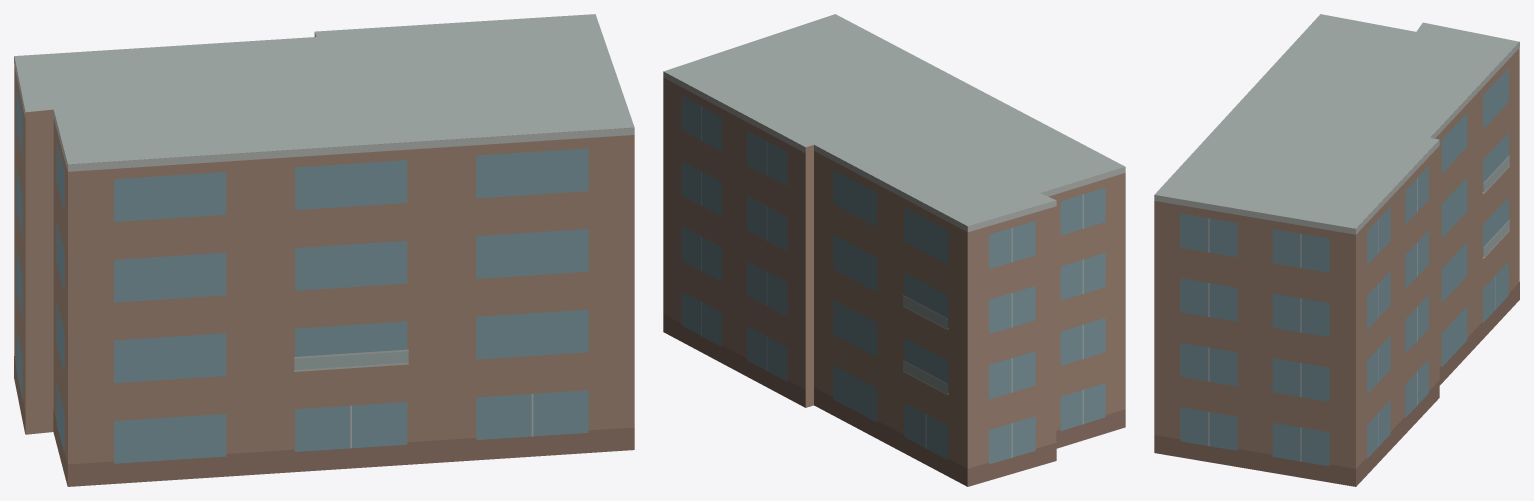
The model's file is survey-upis-32527638.glb.
3 views of the same model, side by side, from view 1: azimuth 30°, elevation 25°; view 2: azimuth 150°, elevation 25°; view 3: azimuth 270°, elevation 25° (orthographic). The views are drawn at different scales.
Visible parts, largest first — view 1: survey-upis-32527638.tmp; view 2: survey-upis-32527638.tmp; view 3: survey-upis-32527638.tmp.
Boxes of the visible parts, bbox=[...] form: survey-upis-32527638.tmp: bbox=[14, 14, 634, 486]; survey-upis-32527638.tmp: bbox=[663, 14, 1125, 486]; survey-upis-32527638.tmp: bbox=[1154, 14, 1519, 486].
Bounding box in the file's own units: 18.84 × 10.55 × 13.55.
